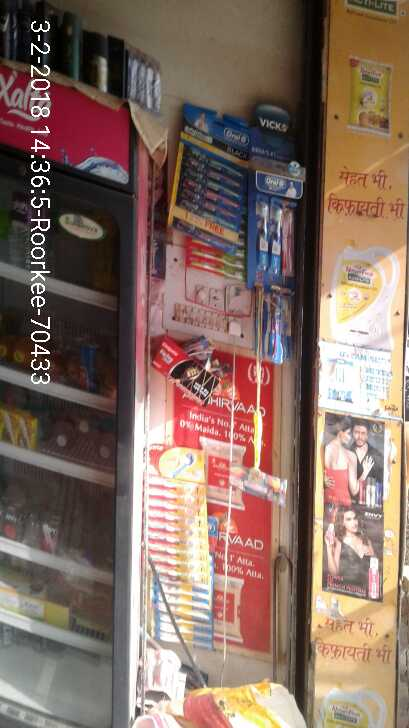oralb: (254, 189, 270, 271), (270, 195, 284, 278)
